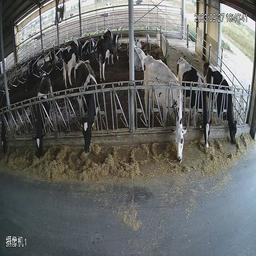cow: (138, 51, 189, 170), (178, 53, 215, 158), (202, 54, 242, 148), (70, 61, 103, 157), (29, 63, 56, 166), (97, 21, 122, 82), (62, 28, 87, 85), (133, 33, 152, 74)
